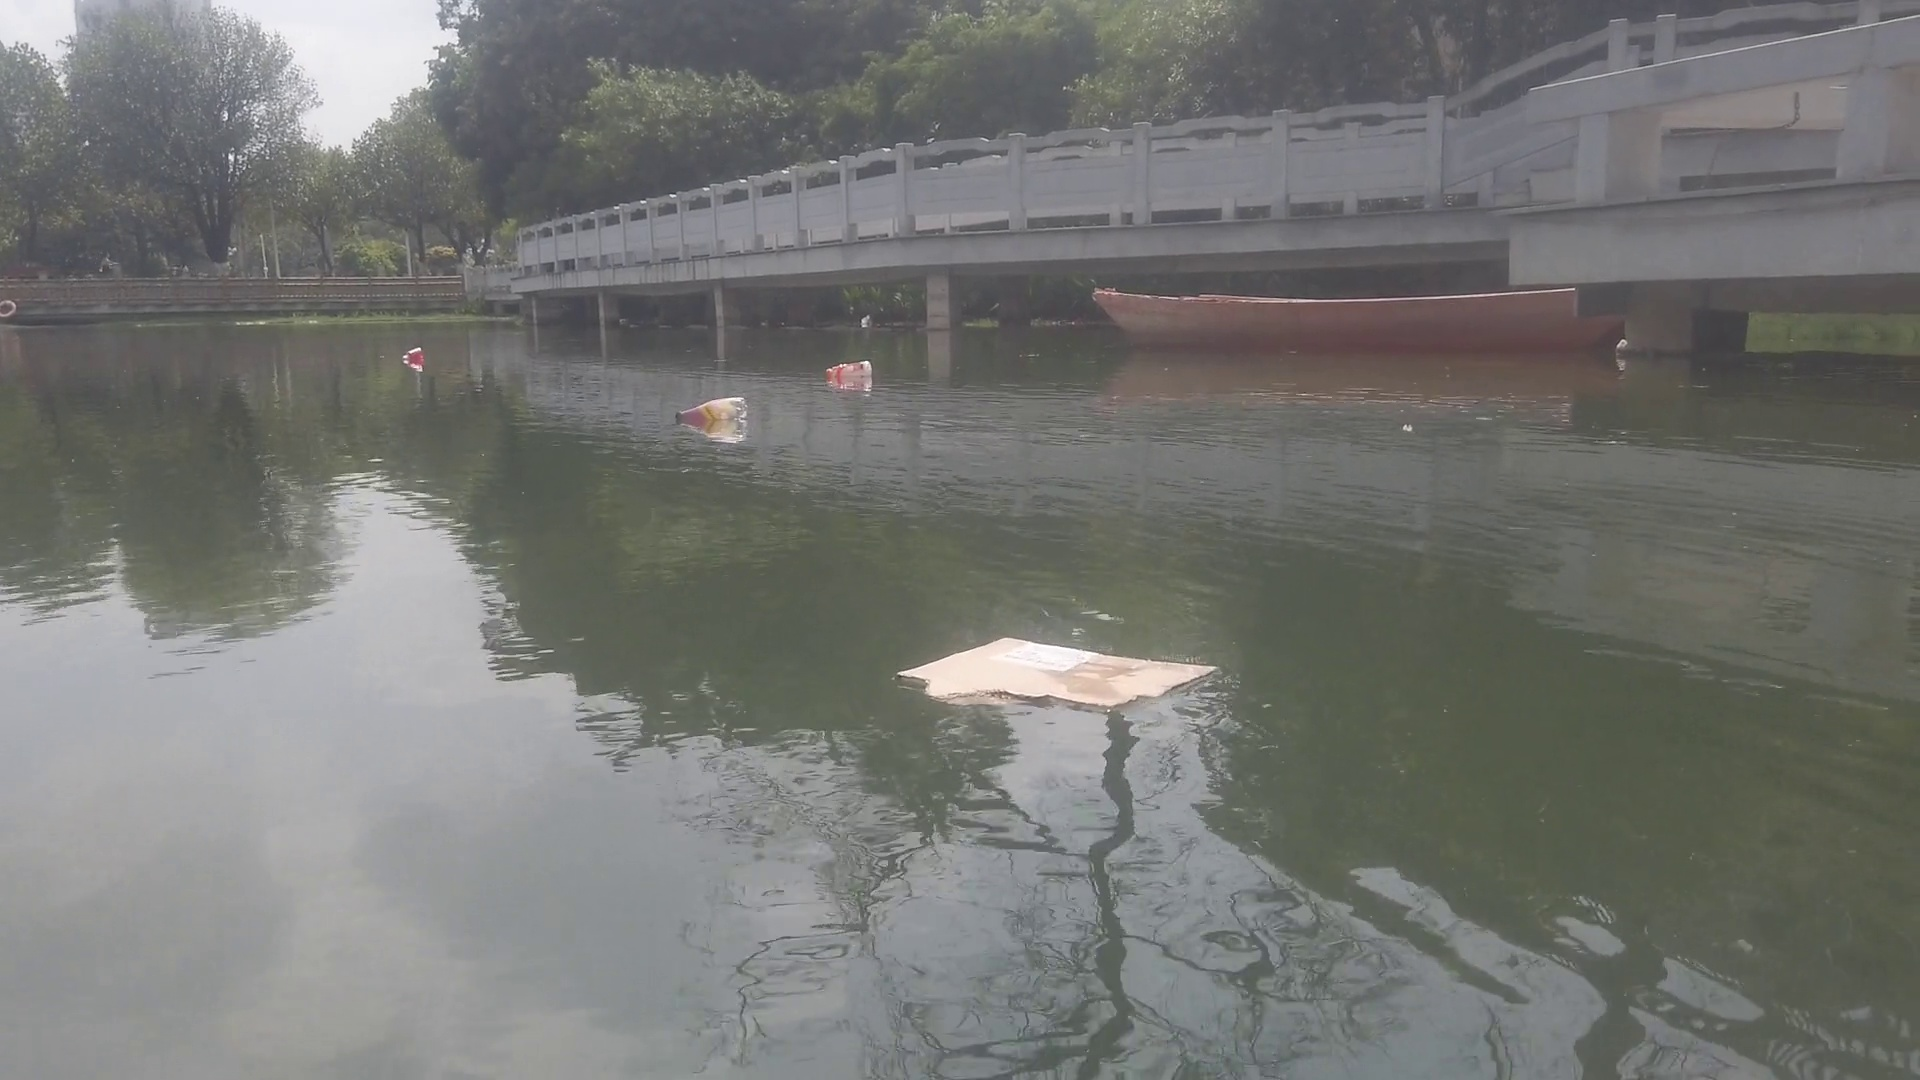bottle: (676, 397, 749, 421), (820, 360, 870, 375), (397, 345, 423, 361)
paper: (890, 633, 1224, 717)
